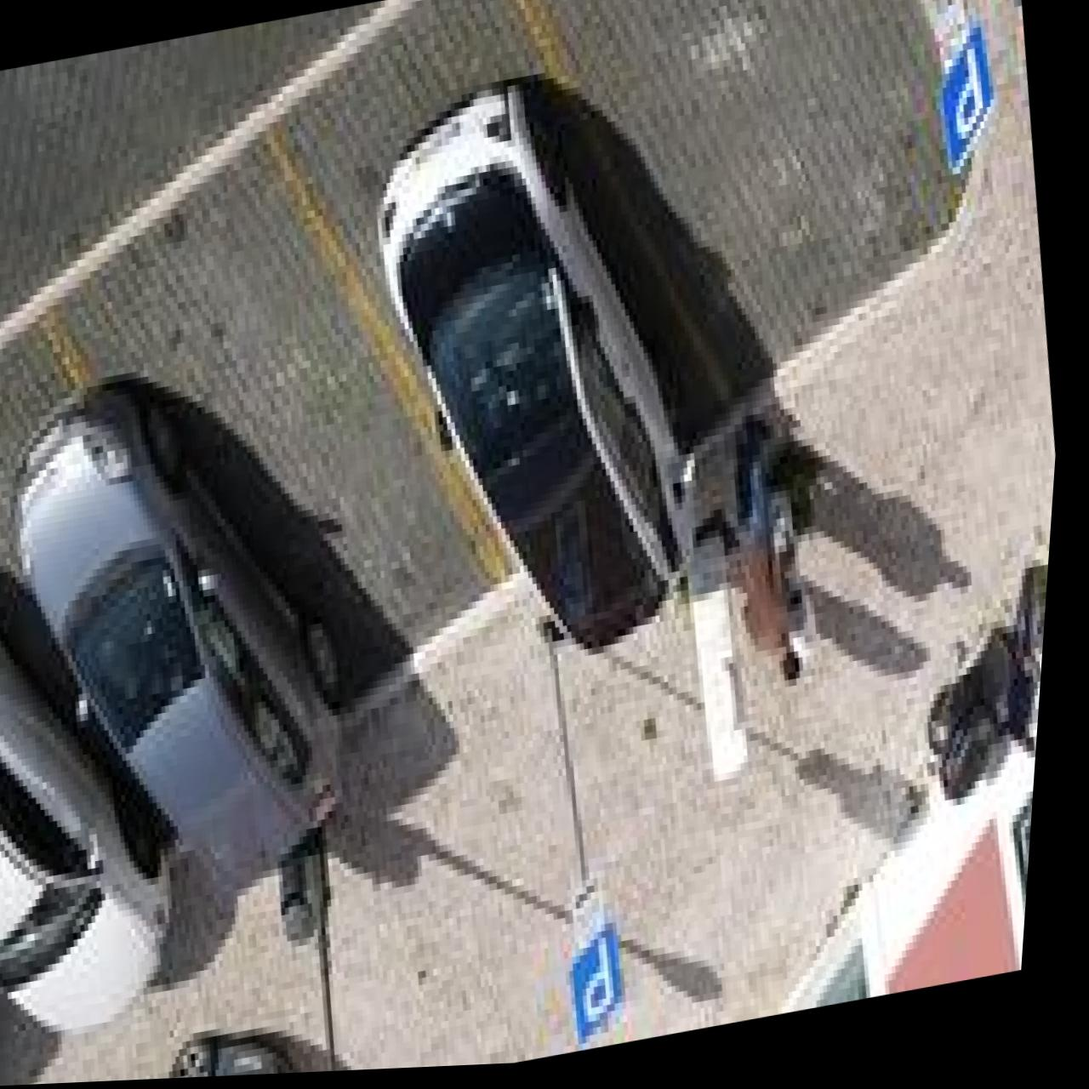cars: (18, 89, 548, 851), (302, 0, 729, 635), (0, 314, 339, 933)
empty: (538, 0, 1004, 438)
